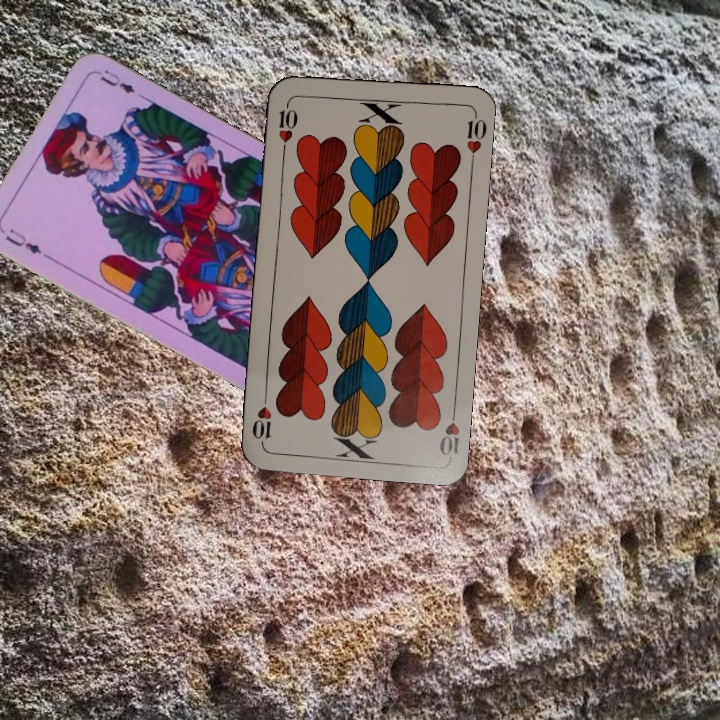EU: (1, 225, 44, 257)
H10: (435, 400, 462, 460), (274, 97, 300, 156)
